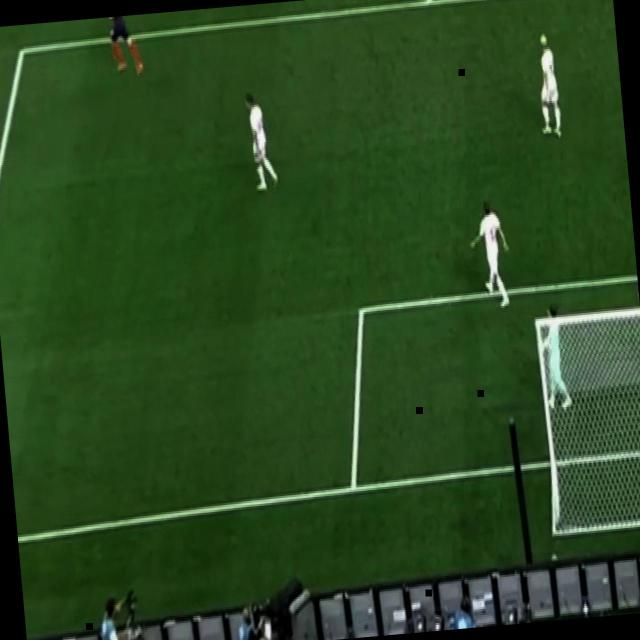player-white: (462, 194, 516, 314), (242, 84, 284, 204), (535, 299, 575, 416), (531, 26, 566, 144), (102, 15, 146, 84), (625, 264, 640, 380)
